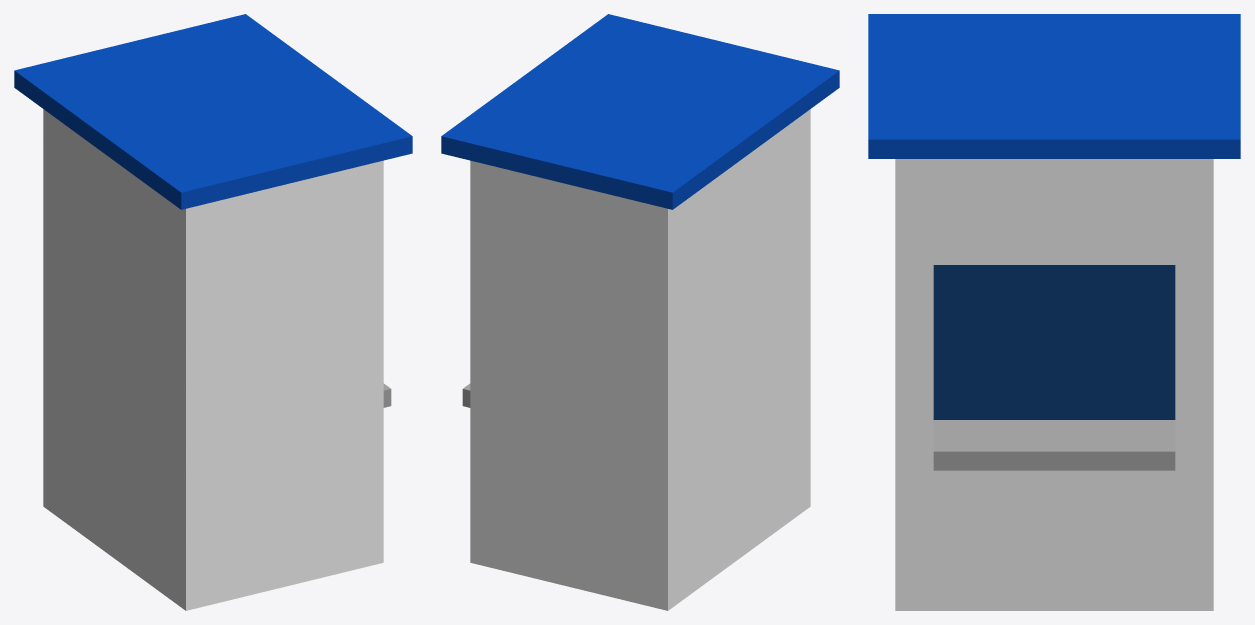
The model's file is TicketBooth02.fbx.
3 renders of one model, left to right at view 1: azimuth 30°, elevation 25°; view 2: azimuth 150°, elevation 25°; view 3: azimuth 270°, elevation 25°, orthographic. The views are drawn at different scales.
Parts seen in each view (by area): view 1: TicketBooth02; view 2: TicketBooth02; view 3: TicketBooth02.
Boxes of the visible parts, left/top/right/bottom form: TicketBooth02: left=14, top=14, right=412, bottom=610; TicketBooth02: left=441, top=14, right=839, bottom=610; TicketBooth02: left=868, top=14, right=1240, bottom=610.
Bounding box in the file's own units: 145 × 250 × 175.
